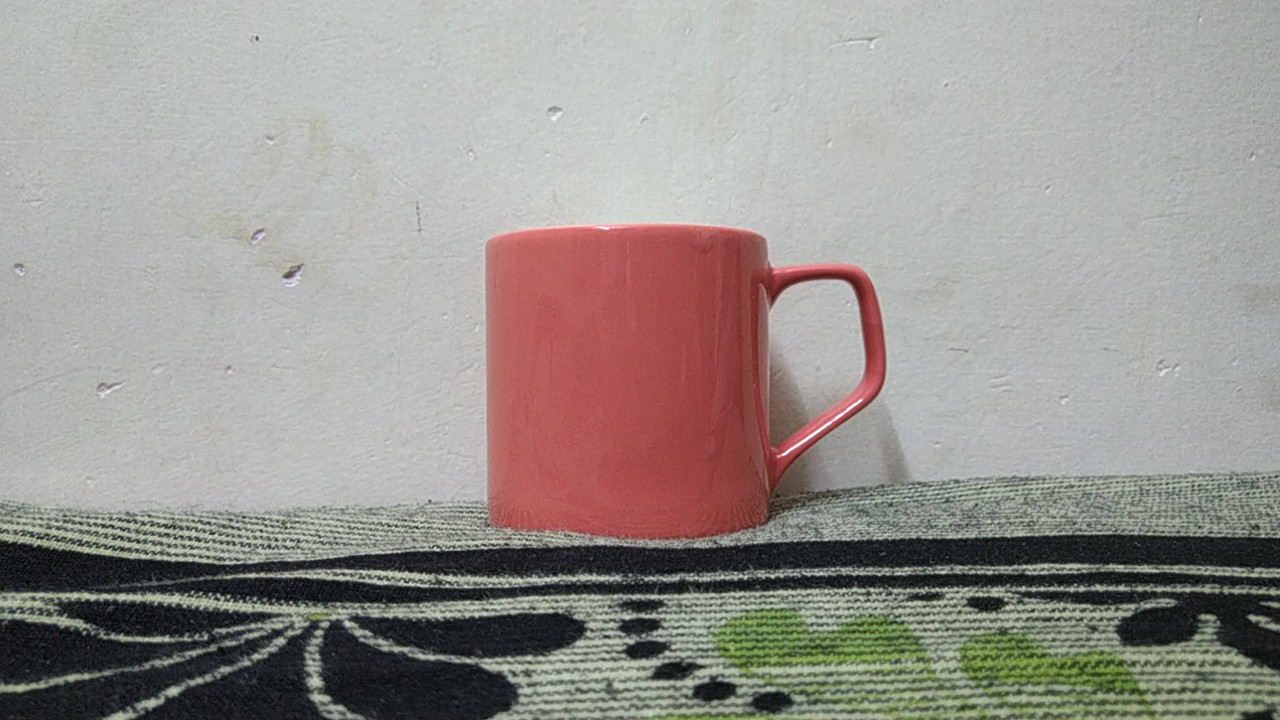cup: (472, 221, 892, 558)
